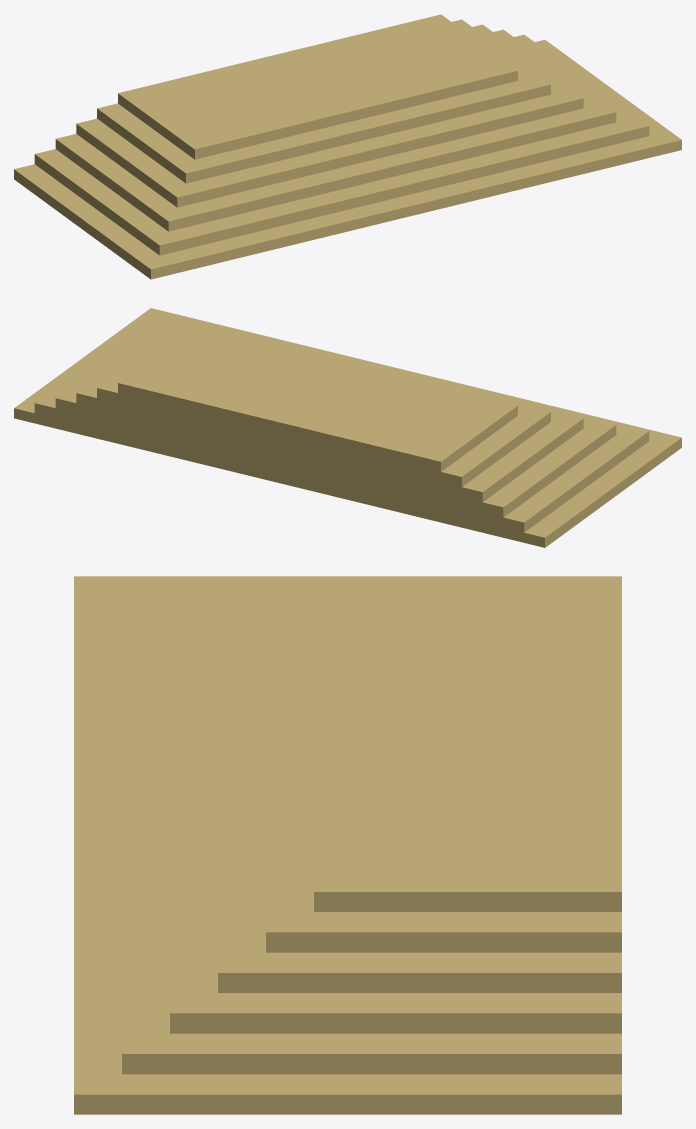
Rendered from Ruins_Stairs_01.fbx.
3 views of the same model, one above another, from view 1: azimuth 30°, elevation 25°; view 2: azimuth 150°, elevation 25°; view 3: azimuth 270°, elevation 25° (orthographic). The views are drawn at different scales.
Visible parts, largest first — view 1: Model; view 2: Model; view 3: Model.
Boxes of the visible parts, x1,y1,x2,y2 form: Model: (14, 14, 681, 279); Model: (14, 308, 681, 547); Model: (74, 576, 621, 1114).
Size of the model in its own units: 439 by 48 by 196.
